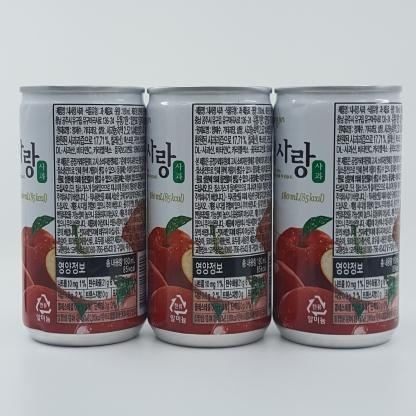-------180ML: (272, 85, 403, 349), (19, 85, 147, 347), (146, 86, 273, 348)
